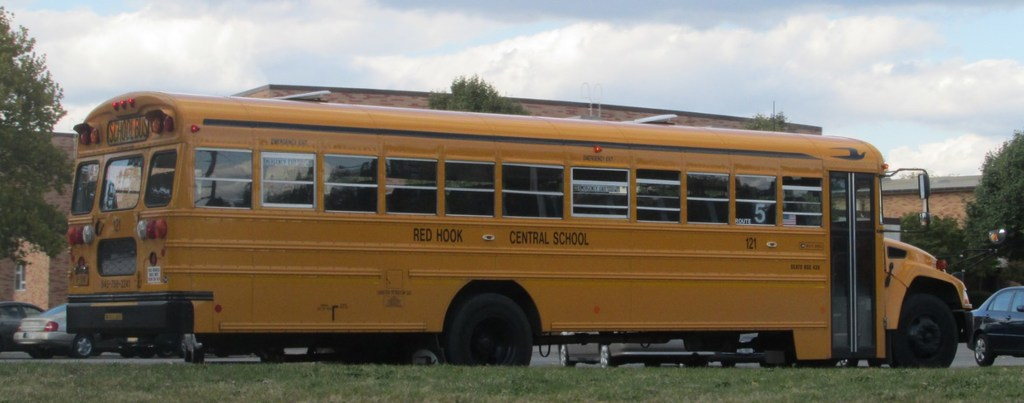Bus: (66, 87, 981, 371)
